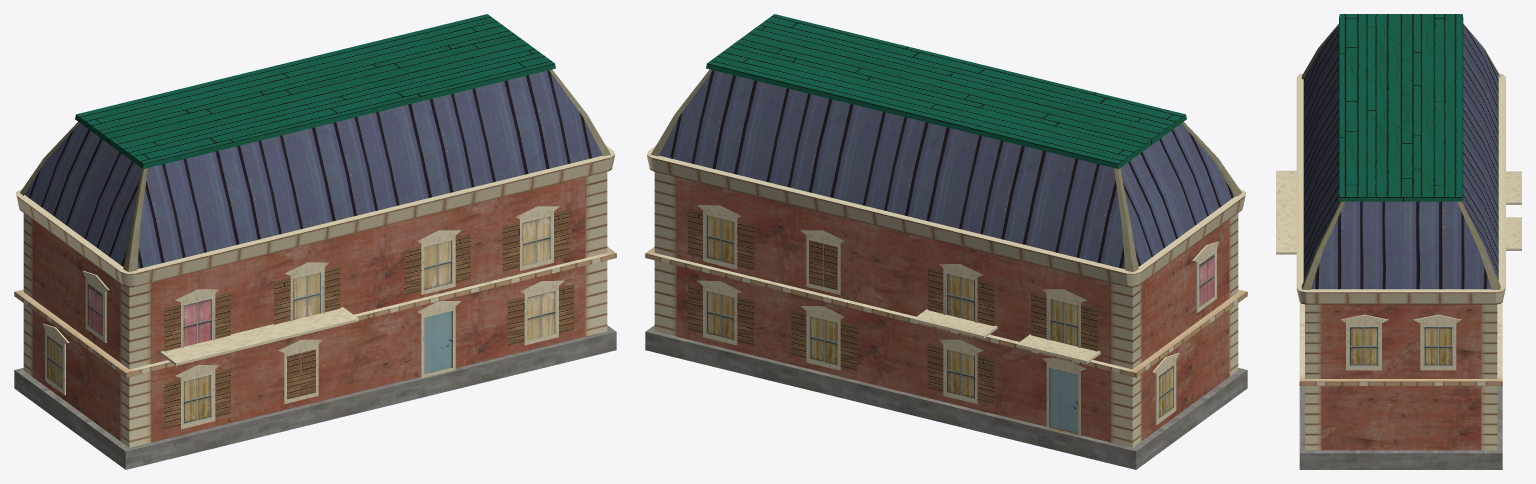
Rendered from cottage.glb.
3 views of the same model, side by side, from view 1: azimuth 30°, elevation 25°; view 2: azimuth 150°, elevation 25°; view 3: azimuth 270°, elevation 25° (orthographic). The views are drawn at different scales.
Parts seen in each view (by area): view 1: stk_generic_asianRoof_b.png__, stk_generic_Stucco_a.png__, stktex_generic_tilesB.png__, stktex_generic_WoodD.png__, stktex_generic_concreteA.png__, stktex_generic_WoodA.png__, stktex_windowsSet_a.png__, stktex_generic_tilesA.png__, stk_generic_ironA.png__, stk_metalDoor_a.png__; view 2: stk_generic_asianRoof_b.png__, stk_generic_Stucco_a.png__, stktex_generic_tilesB.png__, stktex_generic_WoodD.png__, stktex_generic_concreteA.png__, stktex_generic_WoodA.png__, stktex_windowsSet_a.png__, stktex_generic_tilesA.png__, stk_generic_ironA.png__, stk_metalDoor_a.png__; view 3: stk_generic_asianRoof_b.png__, stktex_generic_WoodD.png__, stk_generic_Stucco_a.png__, stktex_generic_tilesB.png__, stktex_generic_concreteA.png__, stktex_windowsSet_a.png__, stktex_generic_tilesA.png__, stk_generic_ironA.png__.
Boxes of the visible parts, x1,y1,x2,y2 form: stk_generic_asianRoof_b.png__: (24,70,602,268); stk_generic_Stucco_a.png__: (32,177,584,442); stktex_generic_tilesB.png__: (16,145,614,447); stktex_generic_WoodD.png__: (75,14,555,168); stktex_generic_concreteA.png__: (14,325,616,469); stktex_generic_WoodA.png__: (164,210,573,429); stktex_windowsSet_a.png__: (46,216,556,424); stktex_generic_tilesA.png__: (14,247,616,377); stk_generic_ironA.png__: (20,69,610,271); stk_metalDoor_a.png__: (424,311,452,374); stk_generic_asianRoof_b.png__: (659,70,1234,269); stk_generic_Stucco_a.png__: (677,177,1229,442); stktex_generic_tilesB.png__: (647,145,1245,447); stktex_generic_WoodD.png__: (706,14,1186,168); stktex_generic_concreteA.png__: (645,325,1247,469); stktex_generic_WoodA.png__: (688,208,1097,404); stktex_windowsSet_a.png__: (705,215,1215,419); stktex_generic_tilesA.png__: (645,247,1247,377); stk_generic_ironA.png__: (651,69,1241,271); stk_metalDoor_a.png__: (1049,367,1078,433); stk_generic_asianRoof_b.png__: (1303,24,1498,289); stktex_generic_WoodD.png__: (1339,14,1463,201); stk_generic_Stucco_a.png__: (1321,304,1480,450); stktex_generic_tilesB.png__: (1276,73,1521,450); stktex_generic_concreteA.png__: (1299,386,1502,469); stktex_windowsSet_a.png__: (1349,327,1453,366); stktex_generic_tilesA.png__: (1299,302,1502,385); stk_generic_ironA.png__: (1301,24,1500,290).
Bounding box in the file's own units: 47.76 × 25.94 × 22.63.
Materials: 10 (10 with a texture image).
